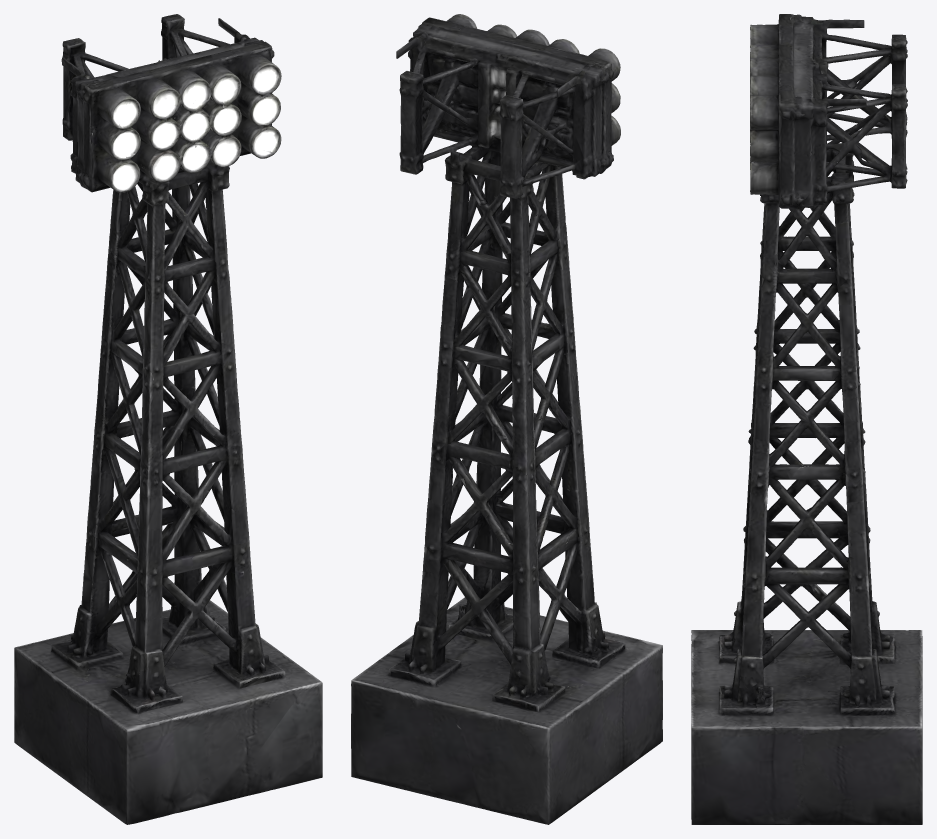
Rendered from lighttower.glb.
The picture shows the model from 3 angles, left to right: view 1: azimuth 30°, elevation 25°; view 2: azimuth 150°, elevation 25°; view 3: azimuth 270°, elevation 25°; orthographic projection. The views are drawn at different scales.
Size of the model in its own units: 0.5543 by 1.9 by 0.5544.
1 material, 1 textured.
